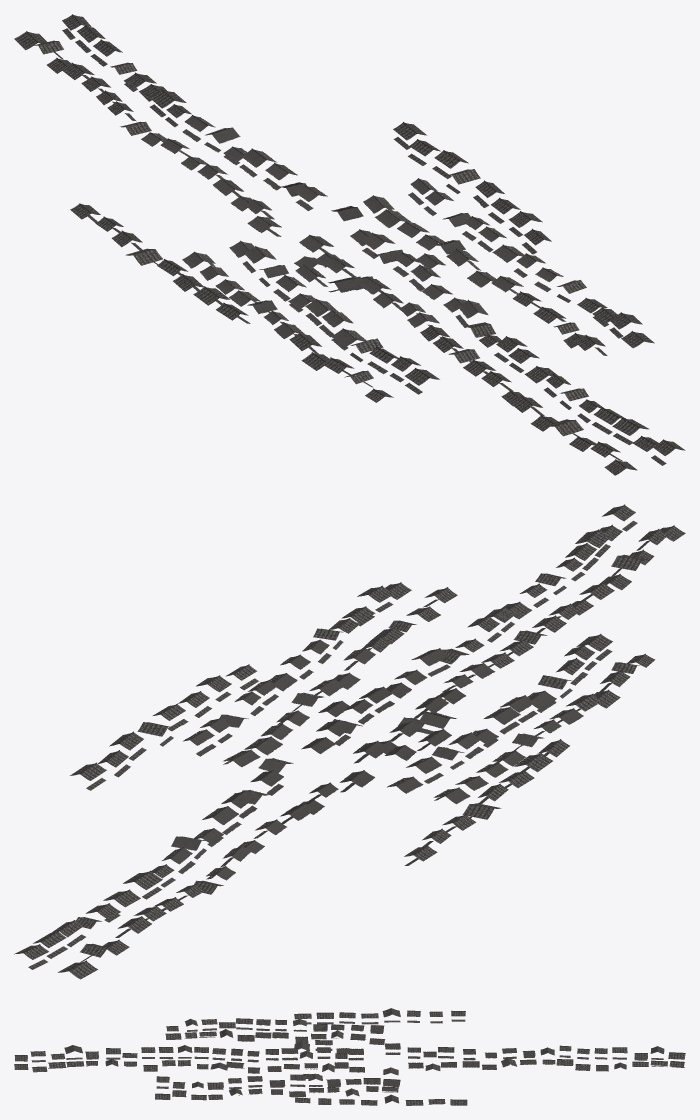
File: canal_roofs.glb
3 renders of one model, top to bottom at view 1: azimuth 30°, elevation 25°; view 2: azimuth 150°, elevation 25°; view 3: azimuth 270°, elevation 25°, orthographic. The views are drawn at different scales.
Visible parts, largest first — view 1: canal_roofs13, canal_roofs17, canal_roofs15, canal_roofs14, canal_roofs16, canal_roofs12, canal_roofs5; view 2: canal_roofs13, canal_roofs17, canal_roofs15, canal_roofs14, canal_roofs16, canal_roofs12, canal_roofs5; view 3: canal_roofs13, canal_roofs17, canal_roofs15, canal_roofs16, canal_roofs14, canal_roofs12, canal_roofs2, canal_roofs1, canal_roofs11, canal_roofs10, canal_roofs9, canal_roofs0 (+5 smaller).
Boxes of the visible parts, x1,y1,x2,y2 form: canal_roofs13: (14,14,685,475); canal_roofs17: (70,122,654,355); canal_roofs15: (264,178,453,402); canal_roofs14: (184,240,315,314); canal_roofs16: (397,190,535,287); canal_roofs12: (263,162,488,327); canal_roofs5: (393,252,452,299); canal_roofs13: (14,504,685,979); canal_roofs17: (70,582,569,865); canal_roofs15: (183,634,655,766); canal_roofs14: (387,726,544,802); canal_roofs16: (200,655,360,743); canal_roofs12: (221,649,495,818); canal_roofs5: (344,683,411,724); canal_roofs13: (14,1025,685,1072); canal_roofs17: (155,1008,467,1105); canal_roofs15: (165,1018,400,1092); canal_roofs16: (269,1073,378,1097); canal_roofs14: (285,1018,385,1044); canal_roofs12: (226,1048,456,1073); canal_roofs2: (265,1048,297,1060); canal_roofs1: (297,1047,347,1058); canal_roofs11: (425,1047,454,1070); canal_roofs10: (408,1051,440,1068); canal_roofs9: (383,1047,420,1075); canal_roofs0: (335,1048,363,1060).
Bounding box in the file's own units: 118 × 5.76 × 347.
Materials: 1 (1 with a texture image).
